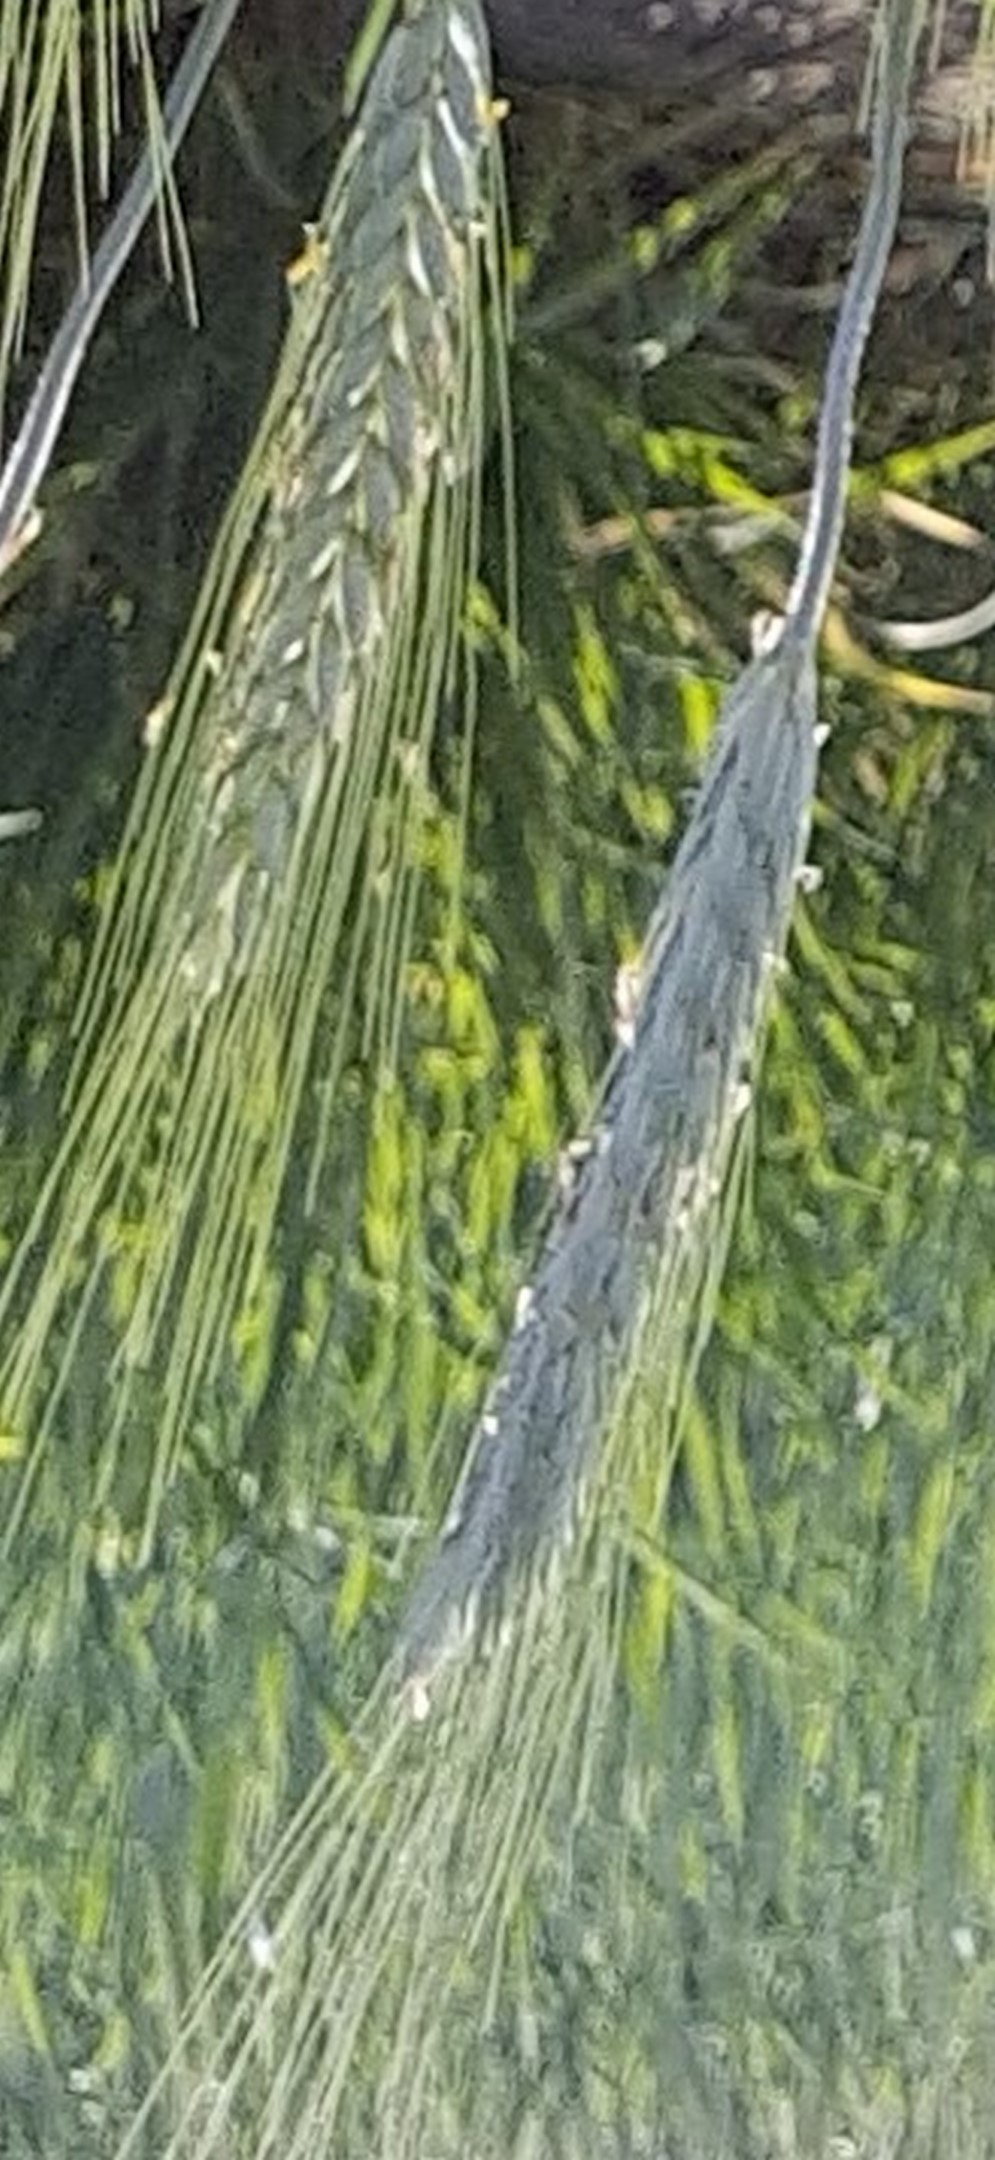Healthy Wheat: (112, 23, 526, 1039)
